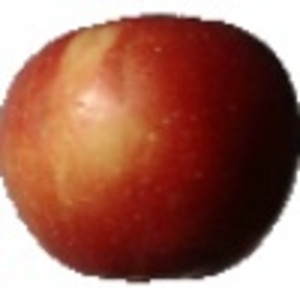maçã braeburn: (1, 12, 299, 284)
